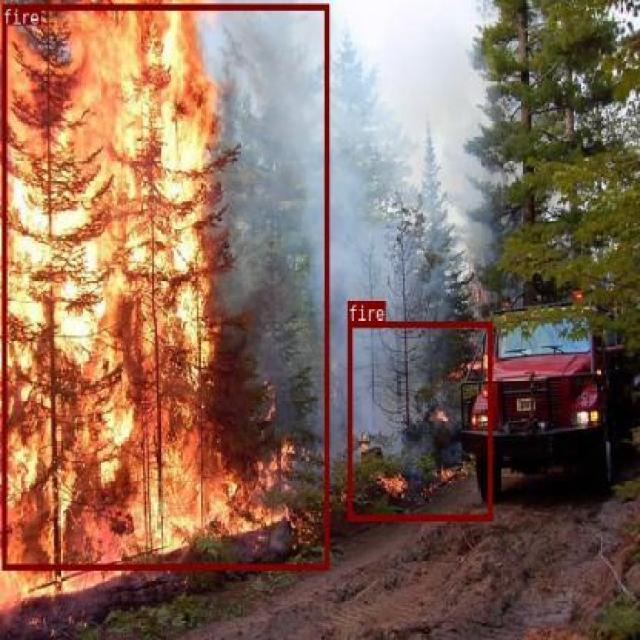Fire: (1, 2, 328, 568), (346, 320, 492, 520)
